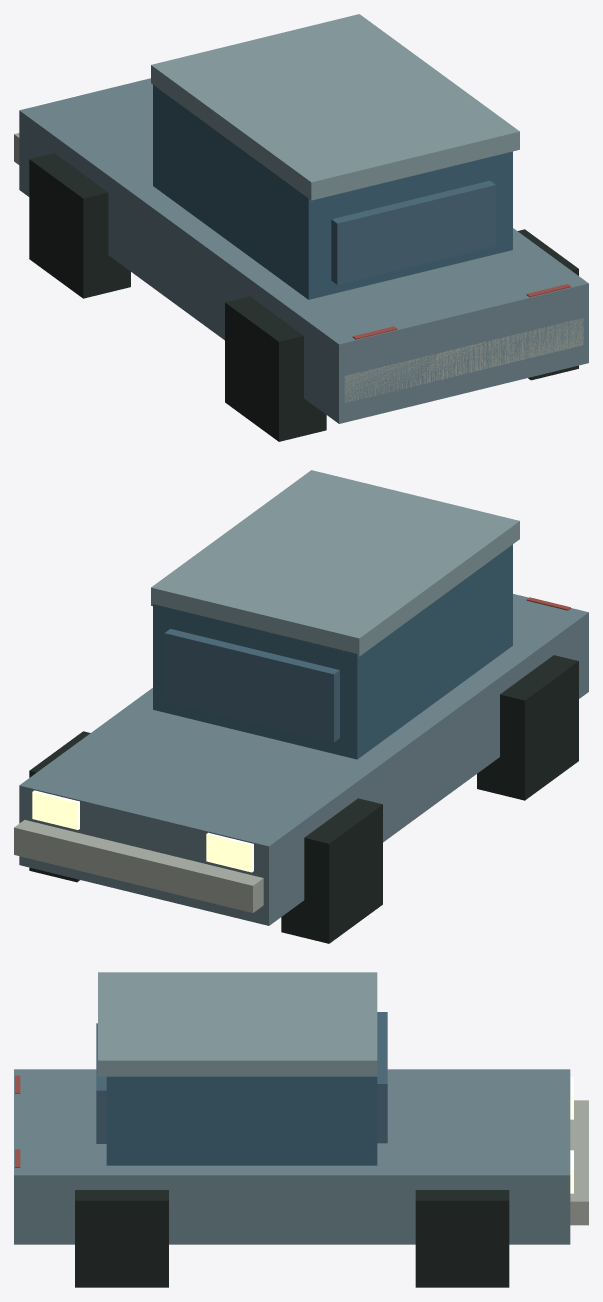
Rendered from civil-car.glb.
3 renders of one model, top to bottom at view 1: azimuth 30°, elevation 25°; view 2: azimuth 150°, elevation 25°; view 3: azimuth 270°, elevation 25°, orthographic. The views are drawn at different scales.
Visible parts, largest first — view 1: civil-car; view 2: civil-car; view 3: civil-car.
Part boxes in pixels (x1,y1,x2,y2): civil-car: (14,14,588,441); civil-car: (14,470,588,943); civil-car: (14,972,588,1287).
Size of the model in its own units: 2.4 by 1.83 by 4.58.
